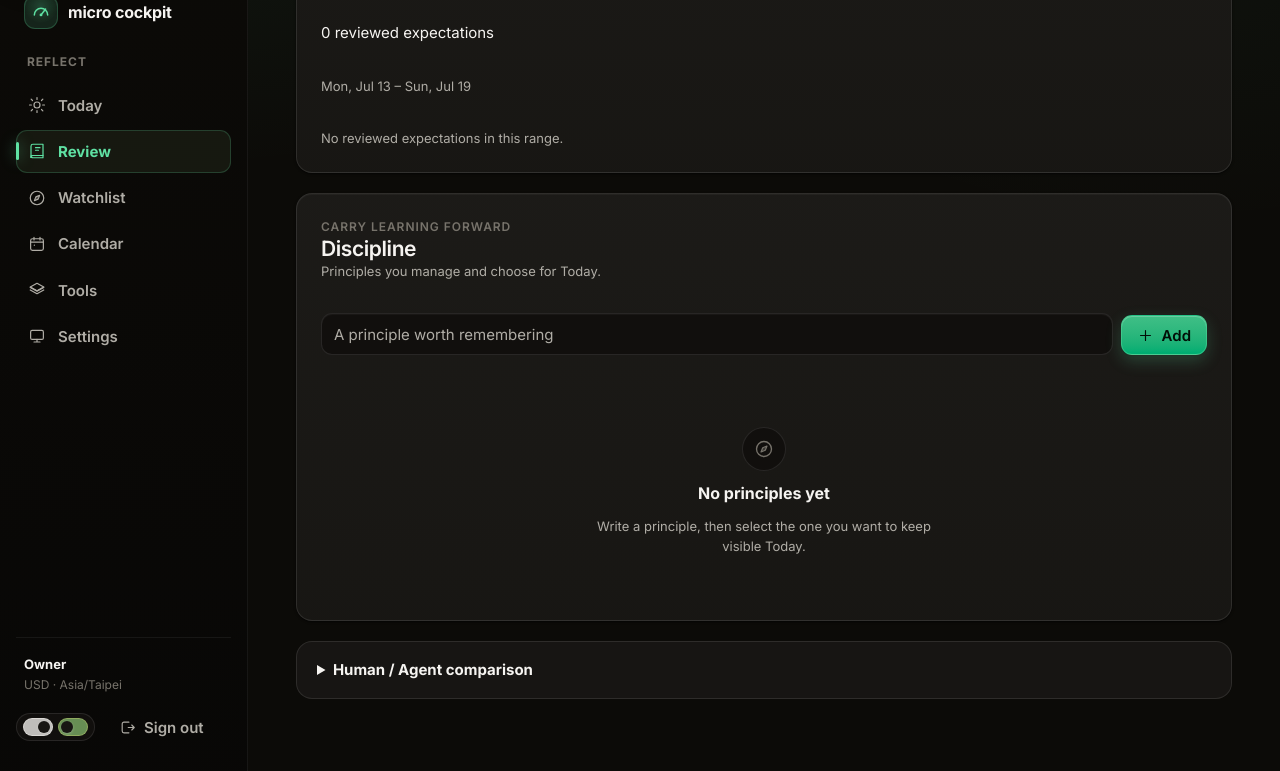
Test: comparison explains how to create an Agent when none are available
(page scrolled)
Click the heading "Human / Agent comparison". click: {"x": 433, "y": 670}
box: x1=333 y1=660 x2=533 y2=679
(page scrolled)
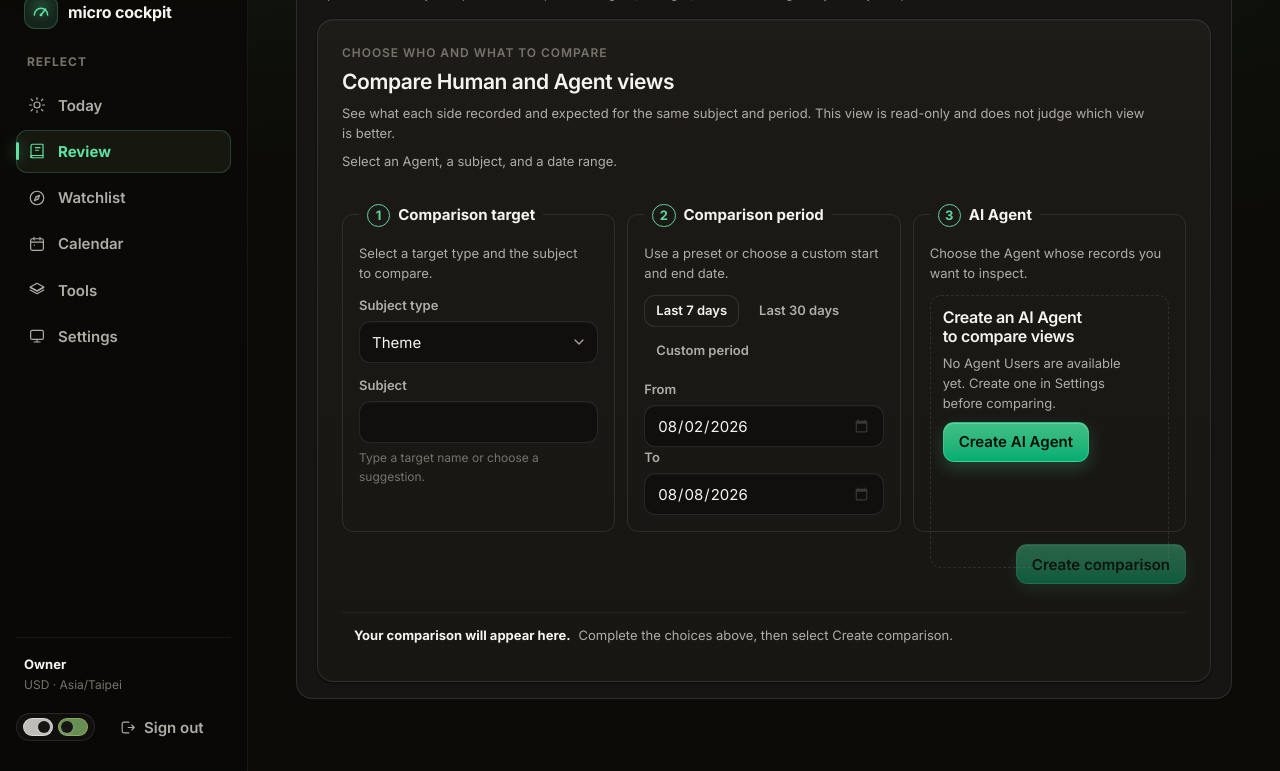
expect the heading "Create an AI Agent to compare views" is shown: met, box x1=943 y1=307 x2=1082 y2=346
expect the text "No Agent Users are available yet" is shown: met, box x1=943 y1=355 x2=1121 y2=411
